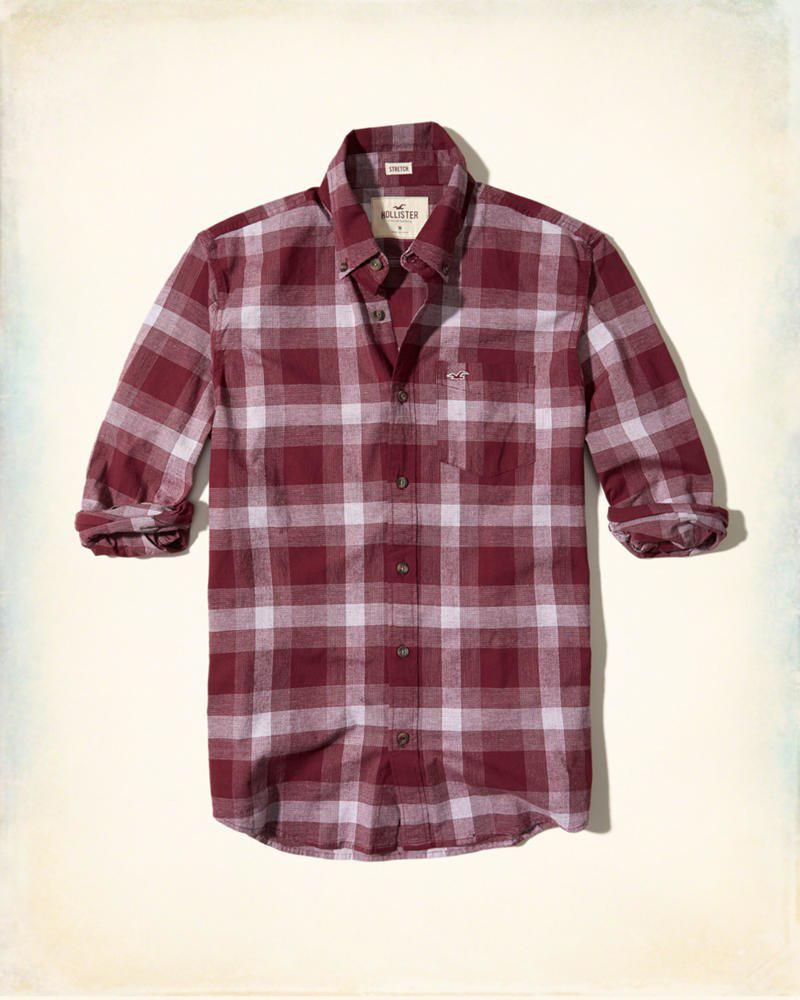teeshirt: (71, 110, 747, 878)
